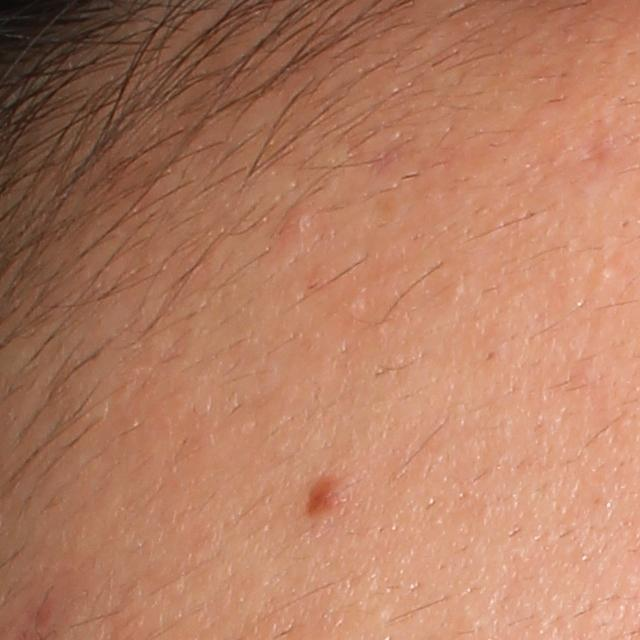comedo: (596, 263, 616, 282)
nevus: (297, 477, 344, 513)
papule: (269, 194, 327, 246)
